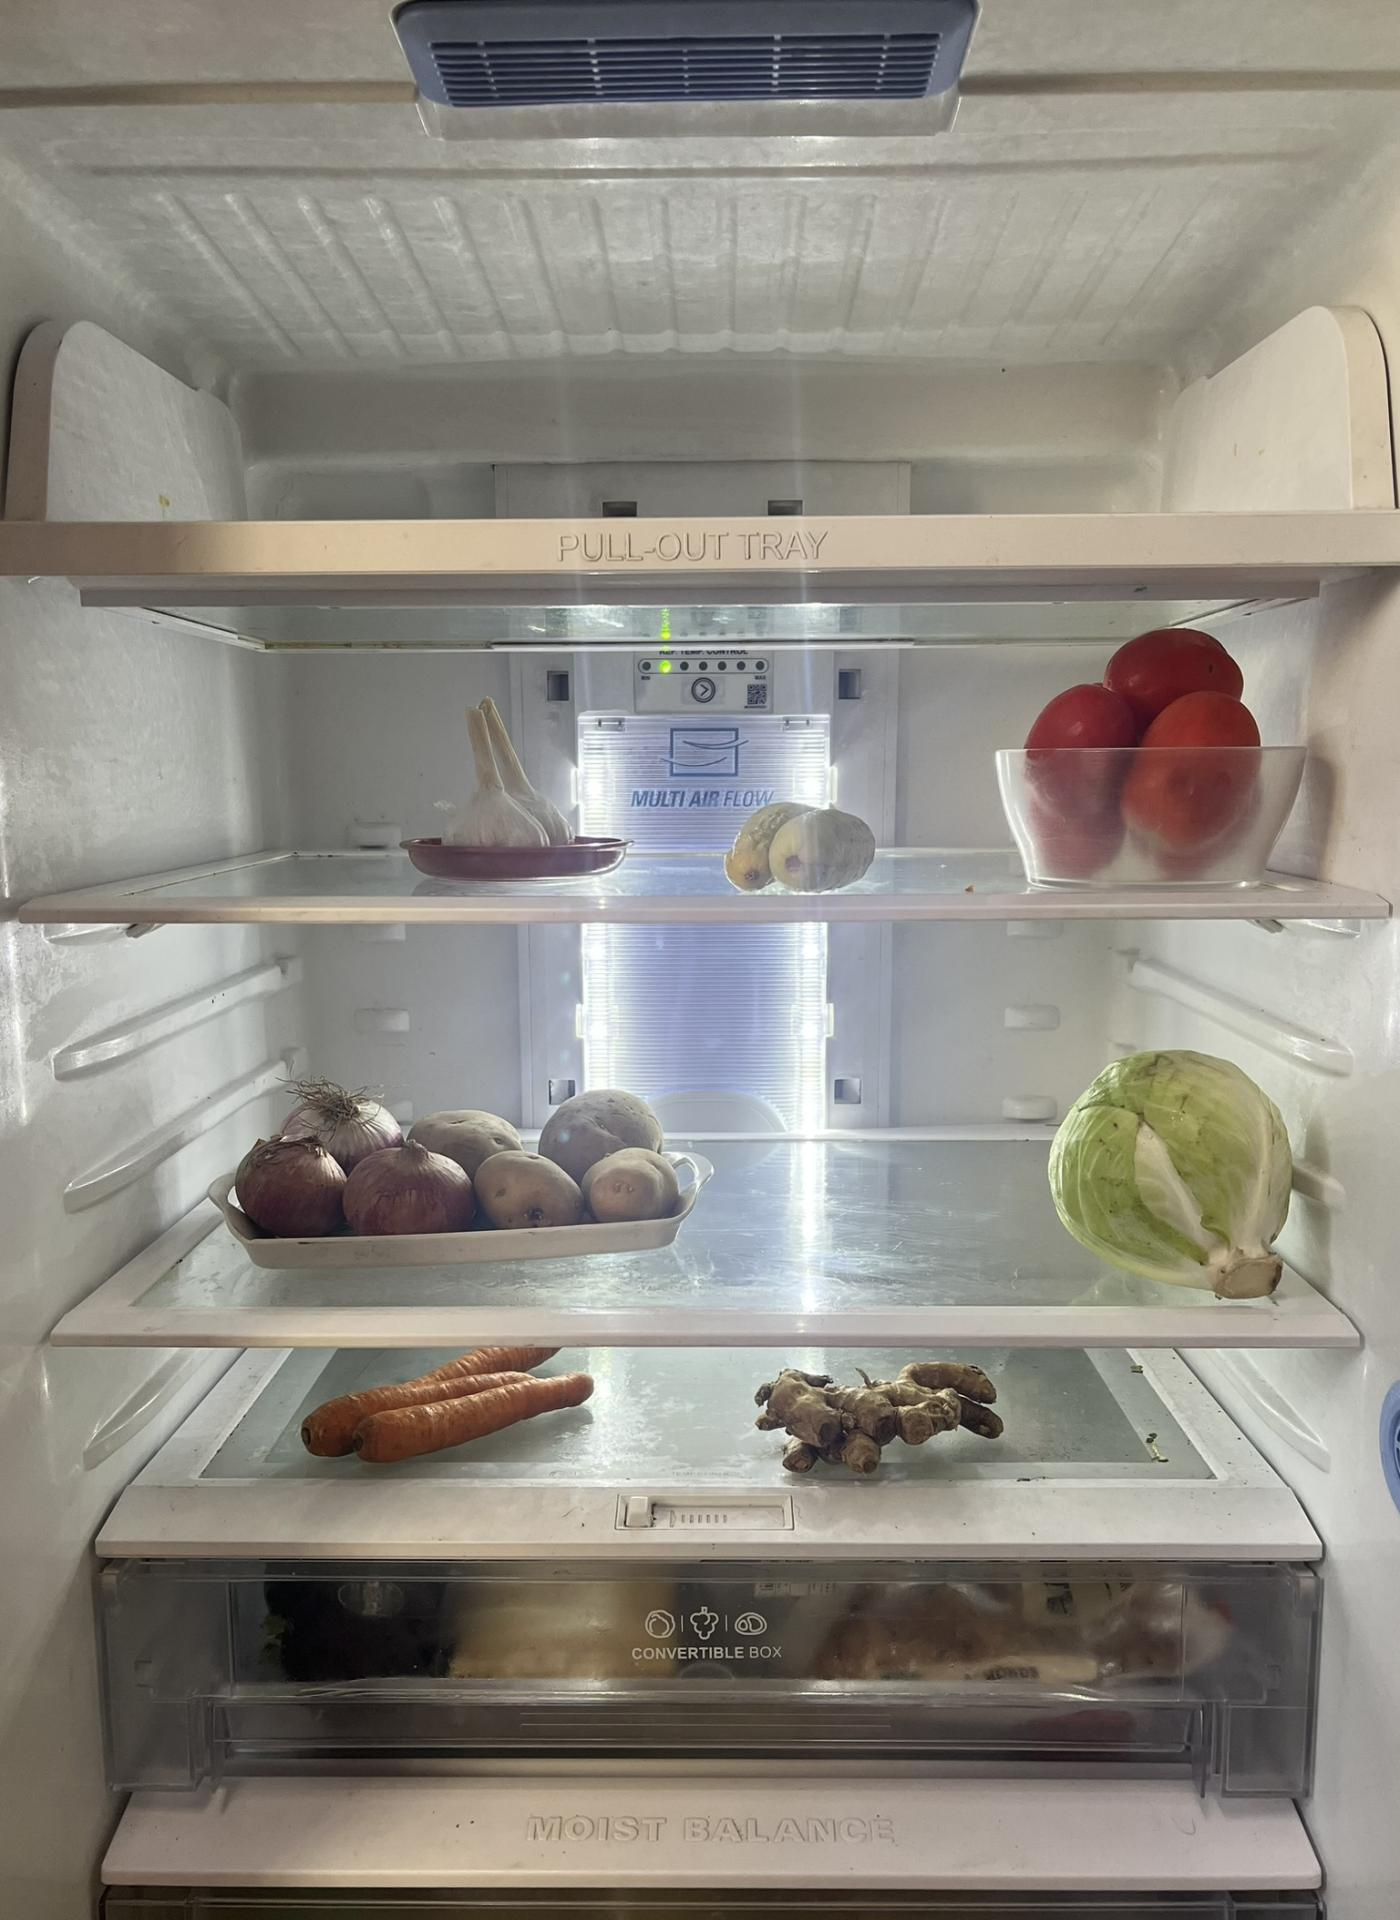cabbage: (1045, 1046, 1297, 1297)
carrots: (298, 1346, 592, 1456)
cucumber: (729, 793, 875, 887)
garlic: (447, 690, 568, 856)
ginger: (756, 1362, 1008, 1465)
onion: (240, 1085, 471, 1234)
potato: (416, 1078, 684, 1228)
tomato: (1024, 635, 1261, 884)
